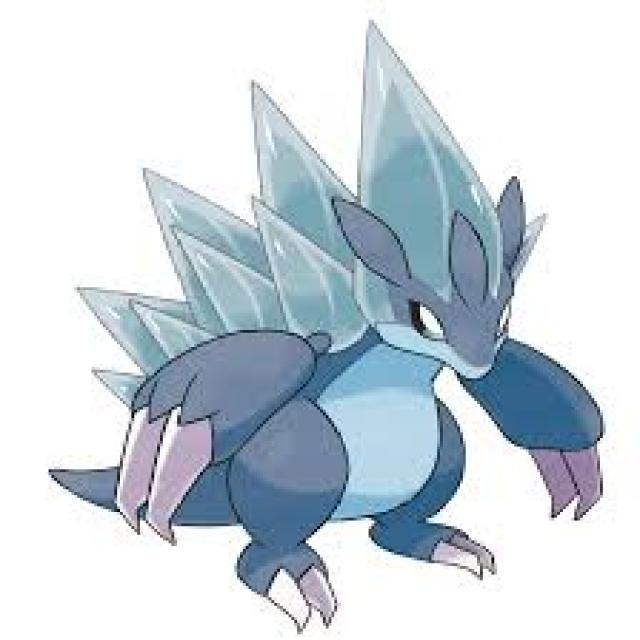Alolan: (72, 93, 593, 611)
